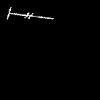treble_crochet: (7, 8, 52, 18)
